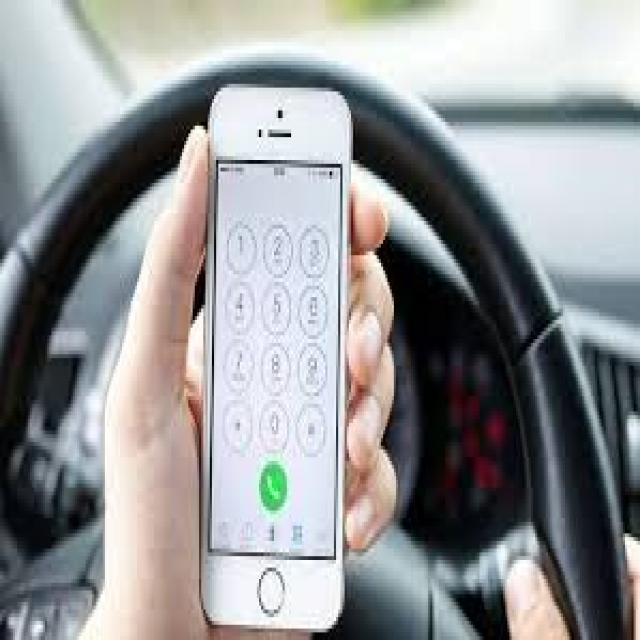Cellphone_texting: (96, 46, 390, 624)
